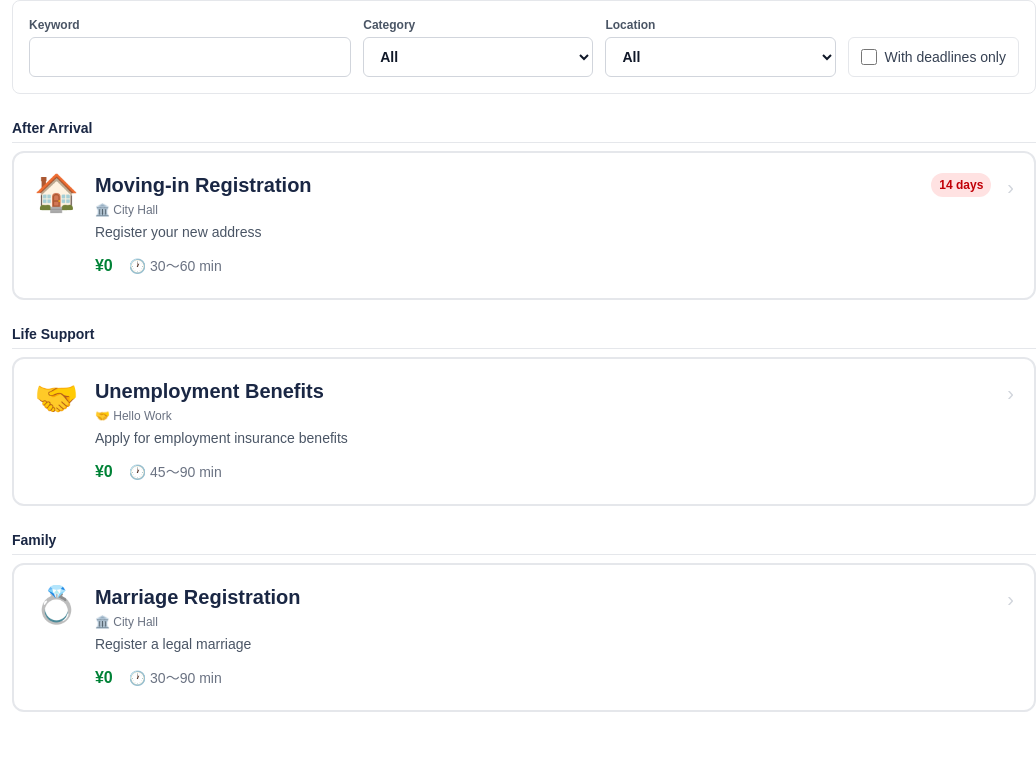
Test: ProcedureFilter › filters by category
The image size is (1036, 768).
Select "Family" in the dropdown labelled "Category" at (478, 57), box [363, 37, 593, 77]
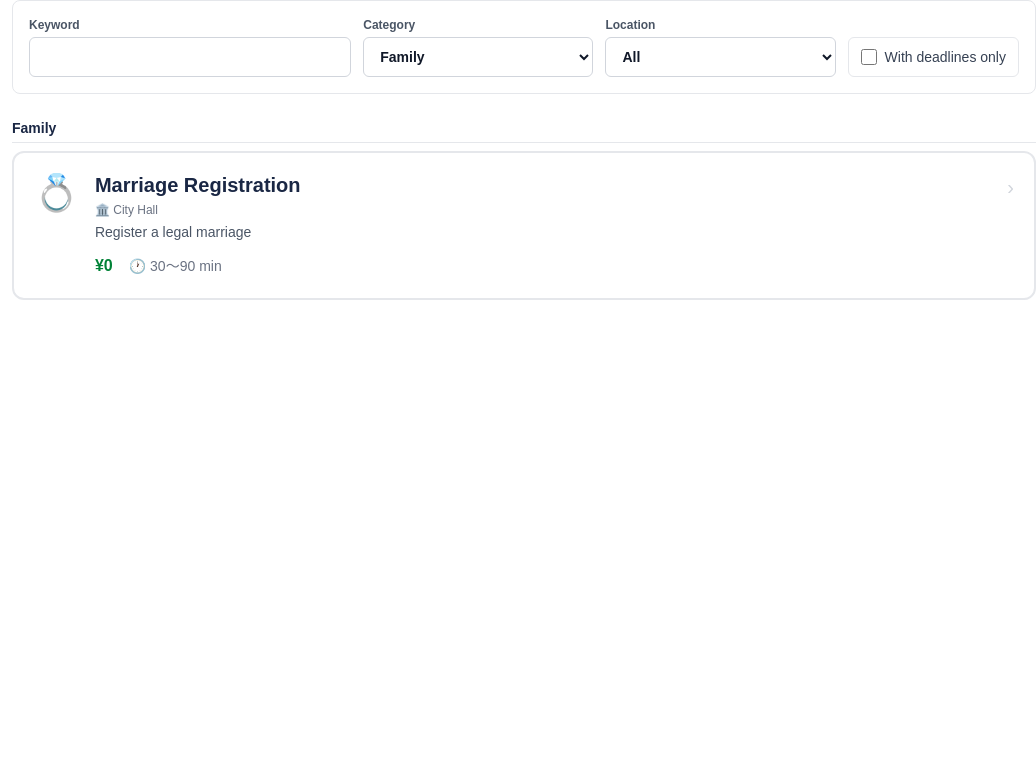
Check: the heading "Marriage Registration" is shown, box [95, 173, 300, 198]
Check: the link "Unemployment Benefits" is gone
